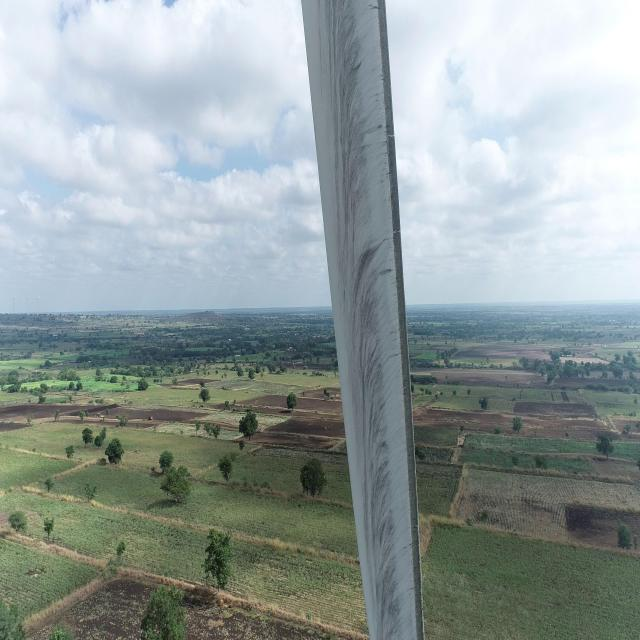Dirt: (301, 0, 424, 640)
Pin Hole: (375, 119, 385, 133)
